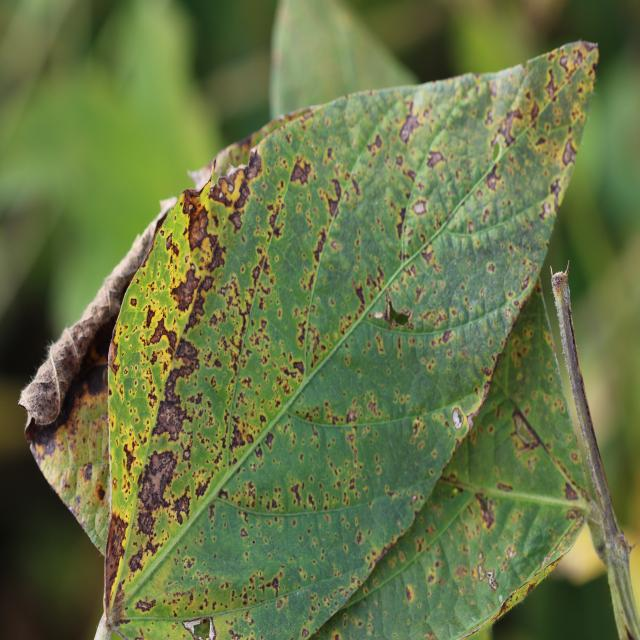Bacterial_Blight: (246, 404, 339, 509), (161, 551, 280, 621), (189, 376, 231, 463), (65, 408, 105, 489), (137, 447, 182, 515), (249, 105, 320, 145), (210, 311, 252, 376), (153, 395, 189, 444), (373, 289, 411, 330), (493, 106, 525, 150), (510, 407, 542, 449), (171, 266, 199, 312), (292, 144, 313, 200), (537, 550, 570, 583), (146, 212, 170, 253), (82, 364, 108, 400), (475, 493, 496, 531), (400, 106, 422, 142), (325, 178, 343, 218), (205, 240, 225, 274), (180, 186, 205, 212), (549, 259, 571, 287), (311, 230, 328, 266), (478, 562, 499, 591), (123, 440, 139, 477), (561, 135, 578, 168), (548, 177, 563, 214), (246, 149, 263, 179), (544, 67, 559, 100), (486, 164, 503, 192), (519, 578, 539, 601), (128, 549, 145, 574), (217, 175, 235, 198), (420, 247, 437, 271), (143, 304, 158, 330), (426, 150, 445, 170), (352, 280, 365, 306), (367, 133, 383, 154), (134, 598, 156, 613), (579, 39, 599, 55), (563, 481, 579, 500), (228, 211, 243, 231), (452, 408, 465, 430), (618, 533, 633, 552), (412, 200, 427, 216), (440, 328, 454, 344), (623, 624, 636, 640), (496, 481, 514, 492), (559, 54, 570, 71), (346, 408, 357, 423), (597, 541, 607, 557), (506, 546, 517, 559), (405, 586, 413, 601), (211, 158, 217, 173), (240, 527, 248, 537), (487, 263, 495, 273), (130, 297, 137, 307), (411, 494, 418, 504), (478, 551, 484, 561), (220, 287, 226, 295), (195, 361, 200, 370), (252, 539, 256, 545)
Soybean: (106, 42, 597, 637)
